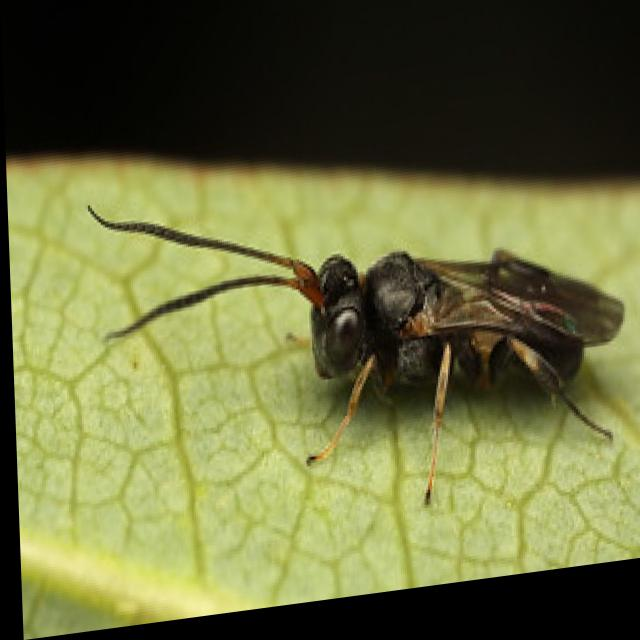Guepe: (81, 154, 634, 538)
